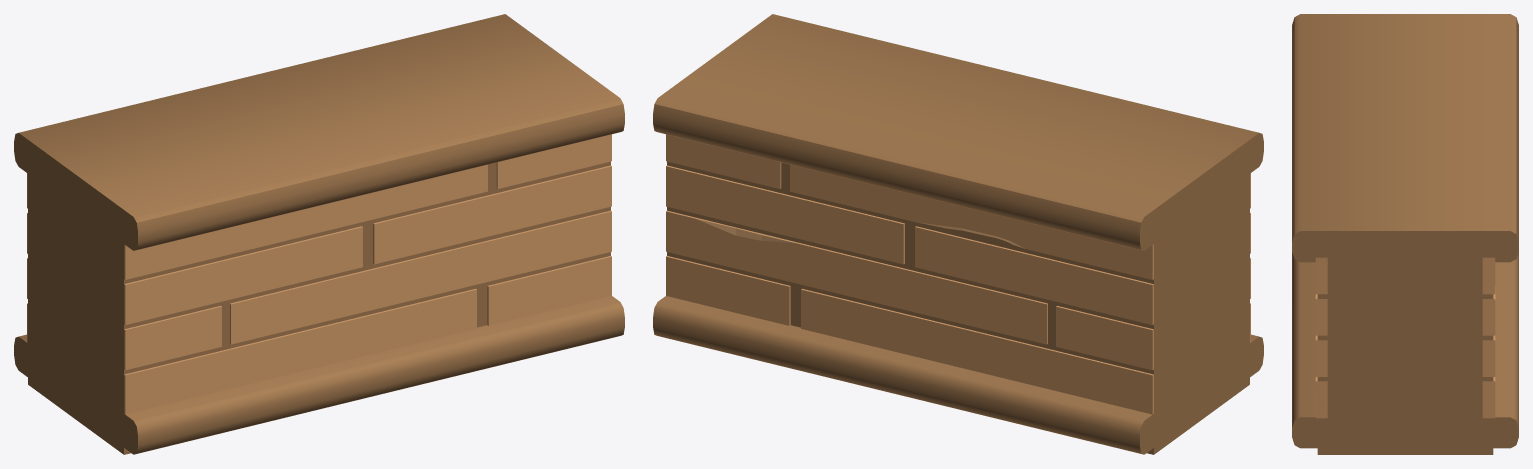
The model's file is Counter Straight.glb.
The picture shows the model from 3 angles, left to right: view 1: azimuth 30°, elevation 25°; view 2: azimuth 150°, elevation 25°; view 3: azimuth 270°, elevation 25°; orthographic projection. The views are drawn at different scales.
Visible parts, largest first — view 1: Environment_Counter_Straight; view 2: Environment_Counter_Straight; view 3: Environment_Counter_Straight.
Boxes of the visible parts, x1,y1,x2,y2 form: Environment_Counter_Straight: (14, 14, 624, 454); Environment_Counter_Straight: (653, 14, 1263, 454); Environment_Counter_Straight: (1292, 14, 1518, 454).
Size of the model in its own units: 4 by 1.92 by 1.77.
Materials: 1 (1 with a texture image).
